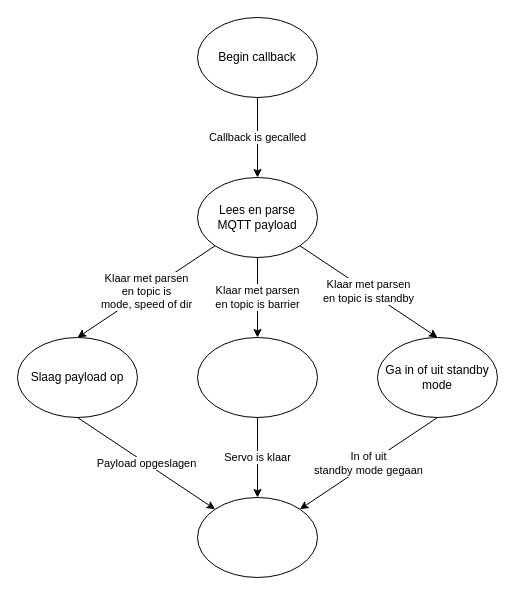
The diagram is 515 pixels wide and 595 high, and some of its shapes have lost their labels. The centre of each missing label's shape, as x and y in pixels:
"Eindig callback" goes at pixel 257 537.
"Stuur servo aan" goes at pixel 257 377.
